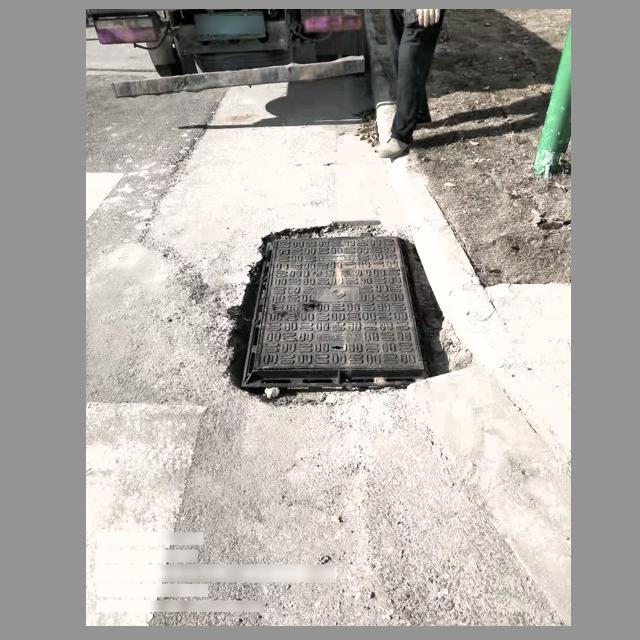circle: (227, 227, 452, 400)
